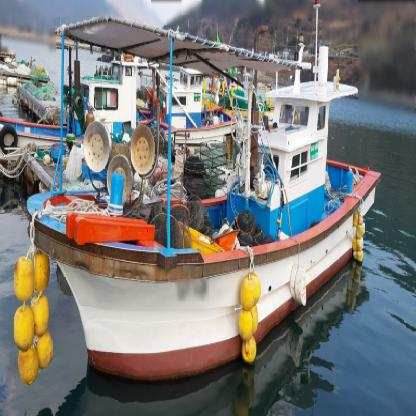fish-b: (17, 1, 384, 390)
